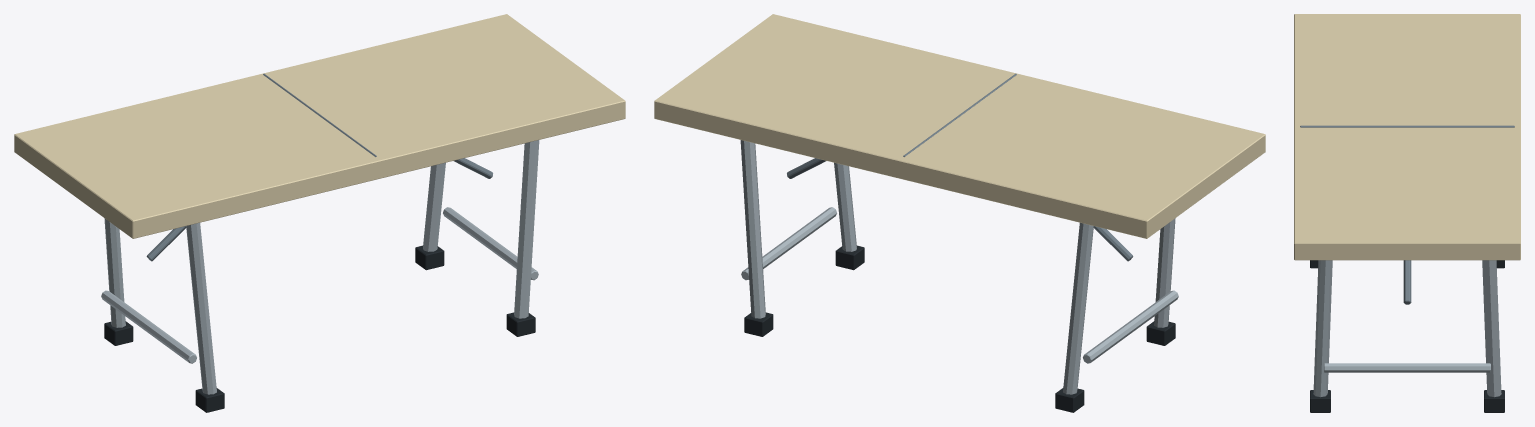
The model's file is b20_folding_banquet_service_table.glb.
3 renders of one model, left to right at view 1: azimuth 30°, elevation 25°; view 2: azimuth 150°, elevation 25°; view 3: azimuth 270°, elevation 25°, orthographic. The views are drawn at different scales.
Parts seen in each view (by area): view 1: b20_folding_banquet_service_table; view 2: b20_folding_banquet_service_table; view 3: b20_folding_banquet_service_table.
Boxes of the visible parts, x1,y1,x2,y2 form: b20_folding_banquet_service_table: (14,14,625,412); b20_folding_banquet_service_table: (654,14,1265,412); b20_folding_banquet_service_table: (1294,14,1520,412).
Size of the model in its own units: 1.82 by 0.779 by 0.76.
